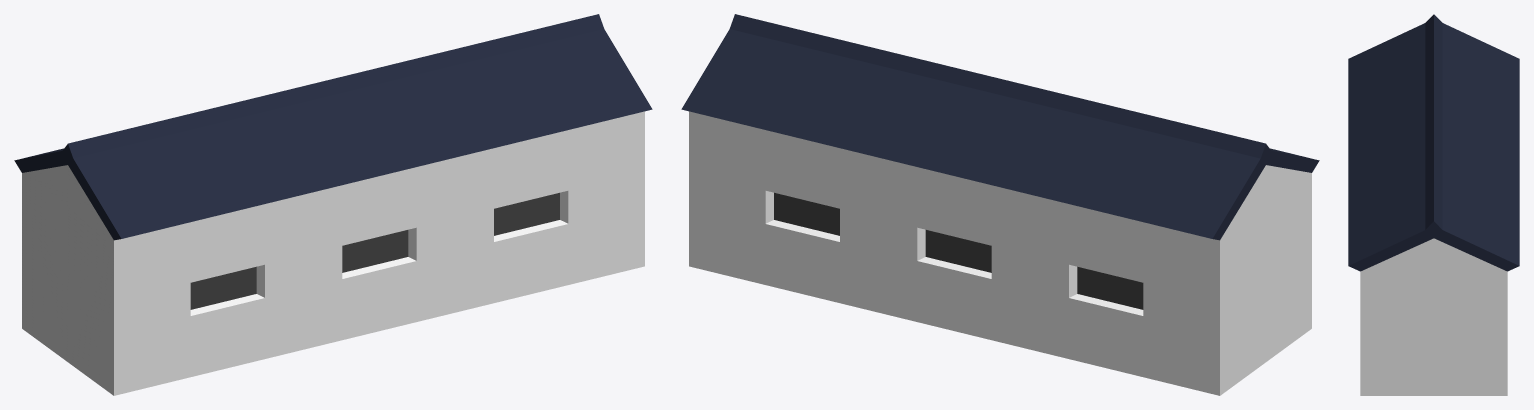
File: wall-japan-medium.fbx
3 views of the same model, side by side, from view 1: azimuth 30°, elevation 25°; view 2: azimuth 150°, elevation 25°; view 3: azimuth 270°, elevation 25° (orthographic). The views are drawn at different scales.
Visible parts, largest first — view 1: wall-japan-medium; view 2: wall-japan-medium; view 3: wall-japan-medium.
Part boxes in pixels (x1,y1,x2,y2): wall-japan-medium: [14, 14, 652, 395]; wall-japan-medium: [681, 14, 1319, 395]; wall-japan-medium: [1348, 14, 1519, 395].
Bounding box in the file's own units: 10 × 3.94 × 3.5.
